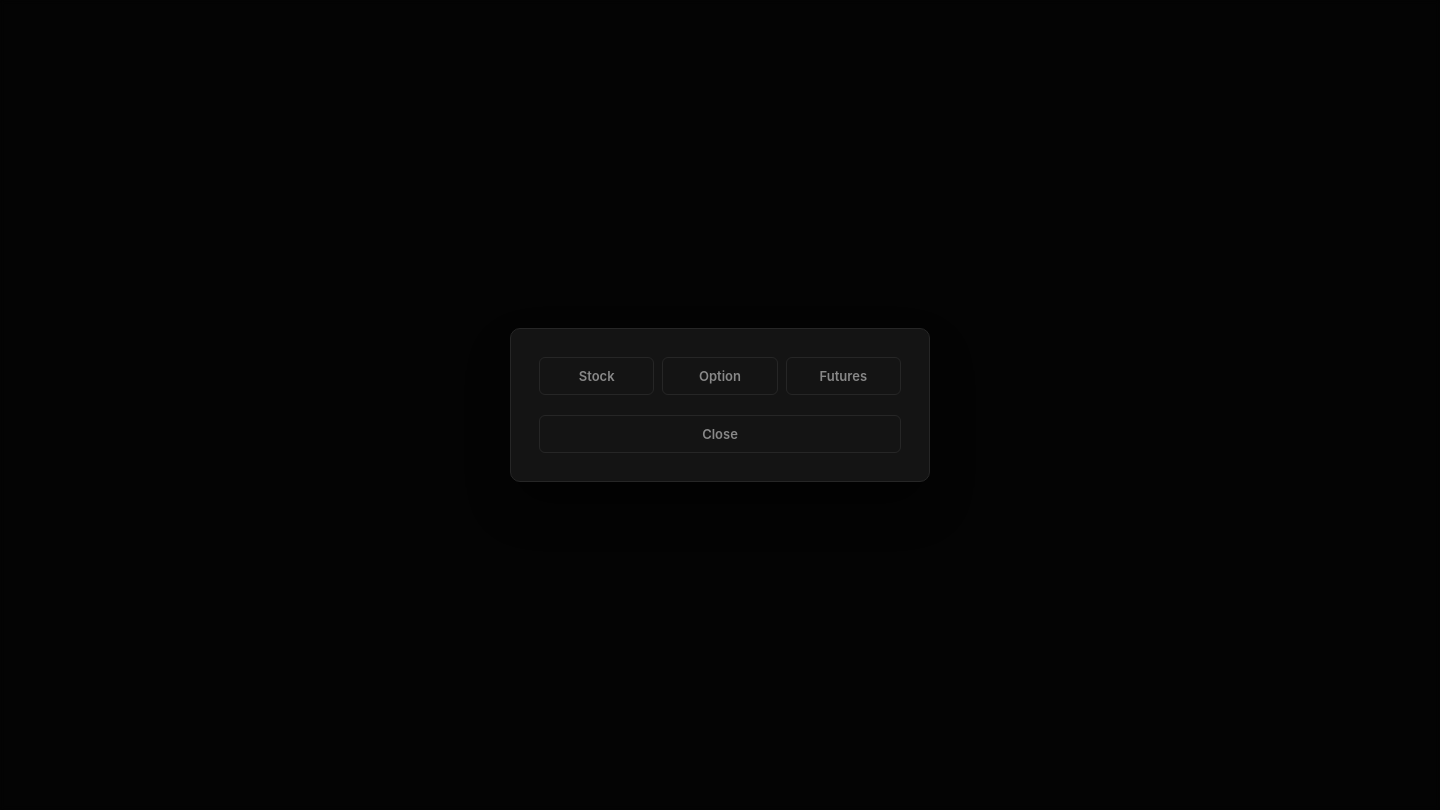
Test case: AddTradeModal › shows option type/strike/expiry fields for an Option trade
The width and height of the screenshot is (1440, 810).
Click the button "Option". click: click(720, 376)
box: x1=662 y1=357 x2=778 y2=395
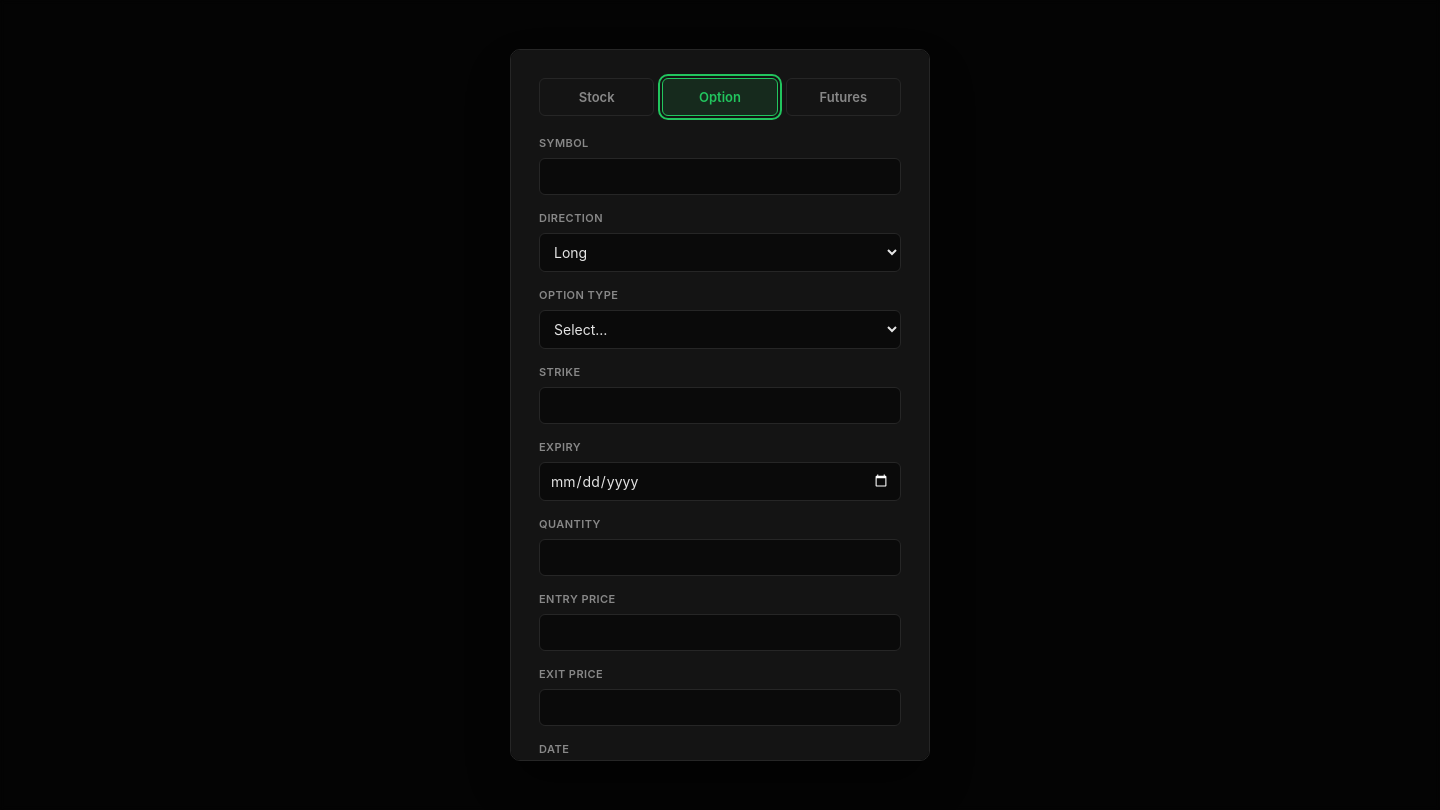
Now the dropdown labelled "Option Type" is shown, box x1=539 y1=310 x2=901 y2=349
Now the number field labelled "Strike" is shown, box x1=539 y1=387 x2=901 y2=424
Now the date field labelled "Expiry" is shown, box x1=539 y1=462 x2=901 y2=501
